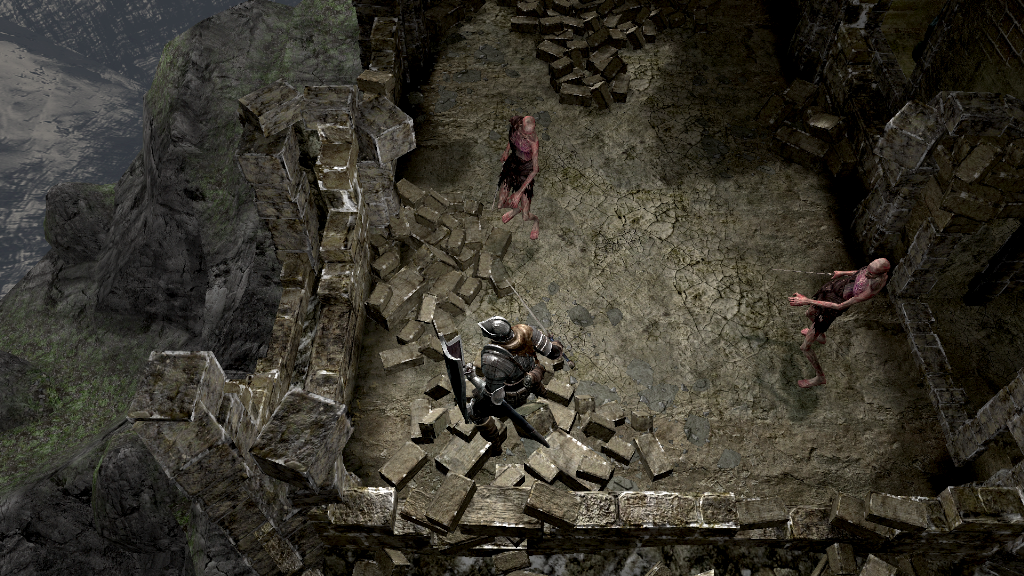hollow: (786, 256, 890, 390), (497, 113, 546, 241)
player: (438, 315, 564, 453)
